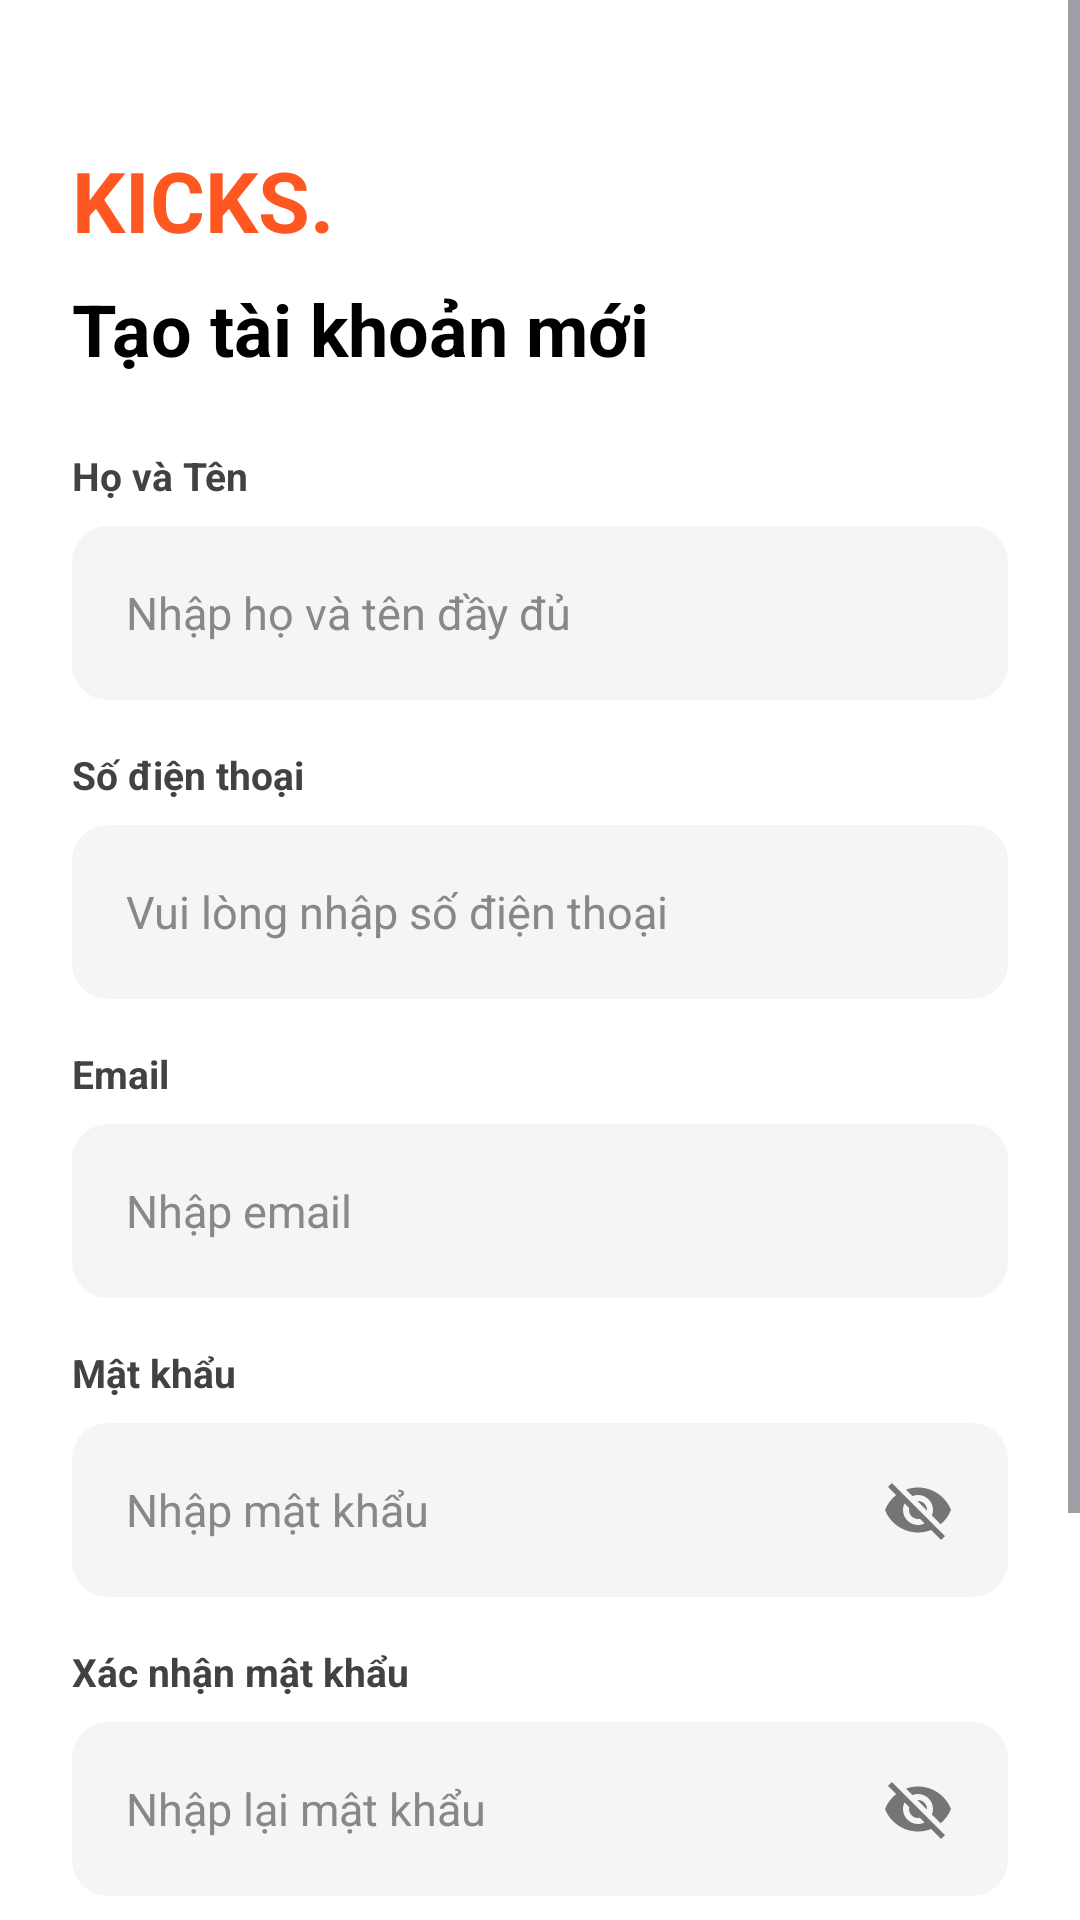

Where to tap for icons on this 1080×1920 app screen, as (x,y):
Ẩn hiện mật khẩu: (918,1511)
Ẩn hiện mật khẩu xác nhận: (918,1810)
